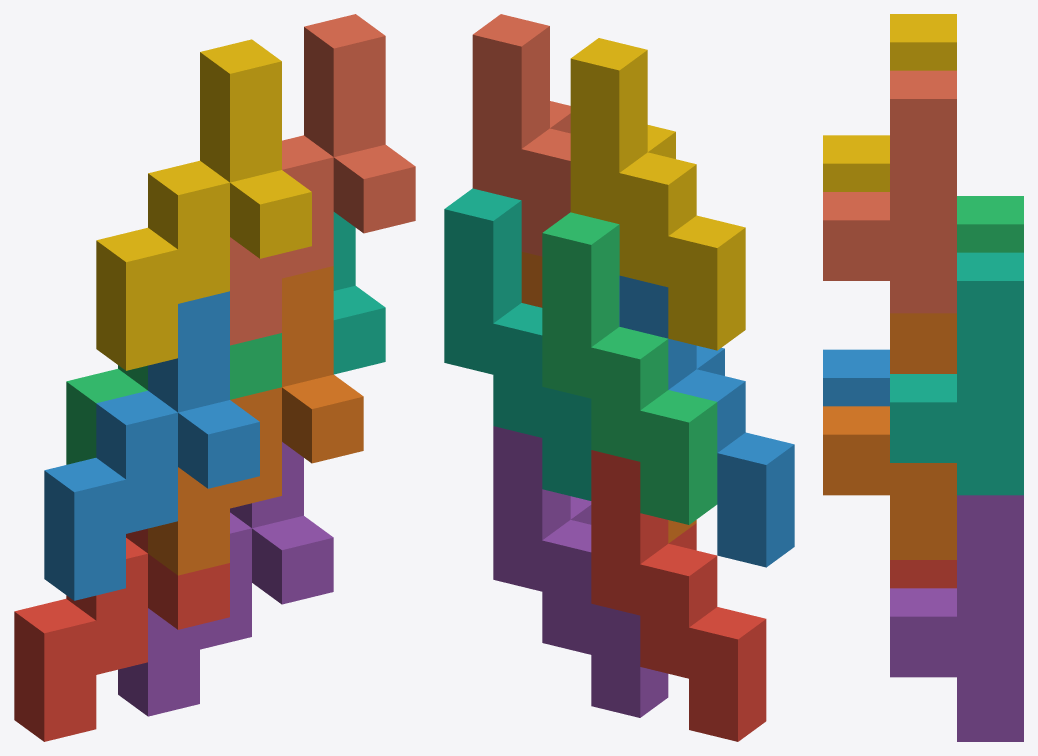
The model's file is tiling.obj.
The picture shows the model from 3 angles, left to right: view 1: azimuth 30°, elevation 25°; view 2: azimuth 150°, elevation 25°; view 3: azimuth 270°, elevation 25°; orthographic projection. The views are drawn at different scales.
Parts seen in each view (by area): view 1: copy_1_domain_4, copy_1_domain_2, copy_1_domain_8, copy_1_domain_6, copy_1_domain_1, copy_1_domain_5, copy_1_domain_3, copy_1_domain_7; view 2: copy_1_domain_4, copy_1_domain_3, copy_1_domain_1, copy_1_domain_7, copy_1_domain_5, copy_1_domain_8, copy_1_domain_2, copy_1_domain_6; view 3: copy_1_domain_5, copy_1_domain_7, copy_1_domain_8, copy_1_domain_6, copy_1_domain_4, copy_1_domain_2, copy_1_domain_3, copy_1_domain_1.
Boxes of the visible parts, x1,y1,x2,y2 form: copy_1_domain_4: (96, 39, 311, 370); copy_1_domain_2: (44, 291, 259, 600); copy_1_domain_8: (230, 14, 415, 345); copy_1_domain_6: (148, 266, 363, 575); copy_1_domain_1: (14, 528, 229, 741); copy_1_domain_5: (118, 442, 333, 716); copy_1_domain_3: (66, 333, 281, 464); copy_1_domain_7: (333, 212, 385, 374); copy_1_domain_4: (570, 38, 745, 350); copy_1_domain_3: (542, 212, 717, 524); copy_1_domain_1: (591, 450, 766, 741); copy_1_domain_7: (444, 188, 591, 500); copy_1_domain_5: (493, 426, 668, 717); copy_1_domain_8: (472, 14, 570, 256); copy_1_domain_2: (619, 275, 794, 567); copy_1_domain_6: (521, 252, 696, 543); copy_1_domain_5: (890, 495, 1023, 741); copy_1_domain_7: (890, 252, 1023, 495); copy_1_domain_8: (823, 70, 956, 313); copy_1_domain_6: (823, 313, 956, 559); copy_1_domain_4: (823, 14, 956, 191); copy_1_domain_2: (823, 349, 889, 406); copy_1_domain_3: (957, 196, 1023, 252); copy_1_domain_1: (890, 560, 956, 588).
Bounding box in the file's own units: 6 × 12 × 3.
